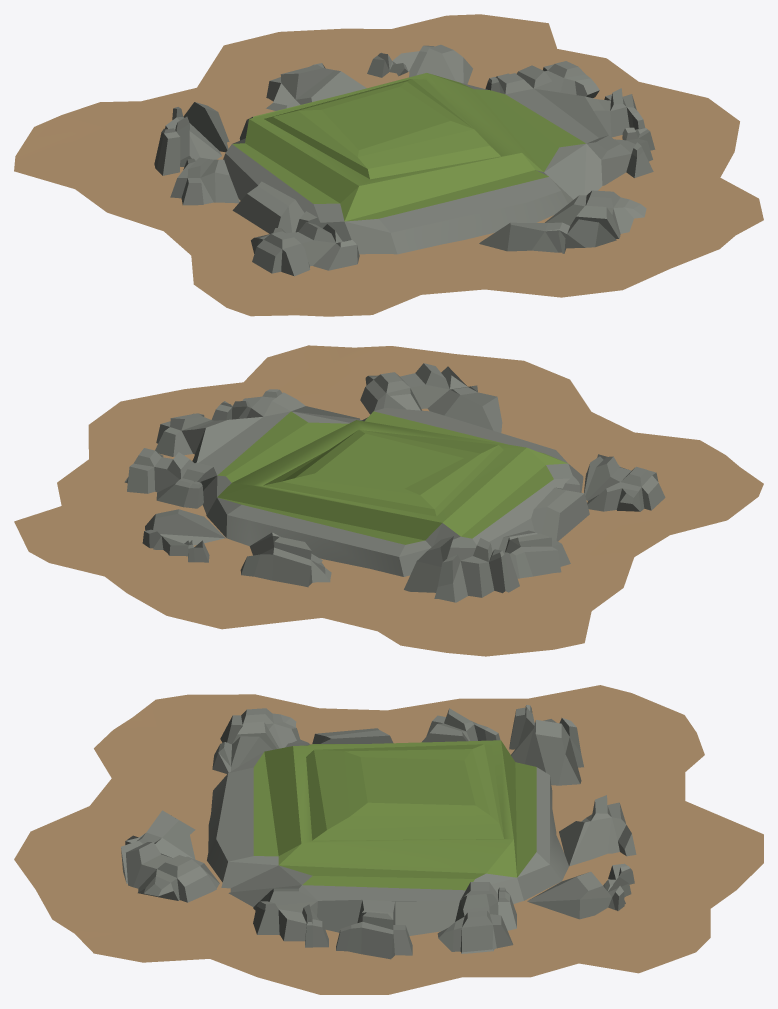
Rendered from island.fbx.
3 renders of one model, top to bottom at view 1: azimuth 30°, elevation 25°; view 2: azimuth 150°, elevation 25°; view 3: azimuth 270°, elevation 25°, orthographic. The views are drawn at different scales.
Parts seen in each view (by area): view 1: island, sand; view 2: sand, island; view 3: sand, island.
Part boxes in pixels (x1,y1,x2,y2): island: (154,44,655,276); sand: (14,14,763,316); sand: (14,345,763,656); island: (124,363,665,602); sand: (14,685,763,994); island: (121,705,636,959).
Bounding box in the file's own units: 540 × 56.16 × 551.
